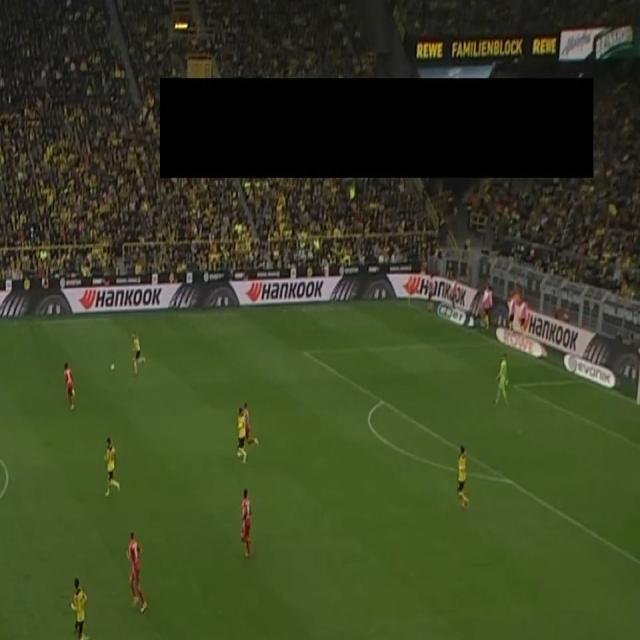ball: (109, 360, 116, 372)
